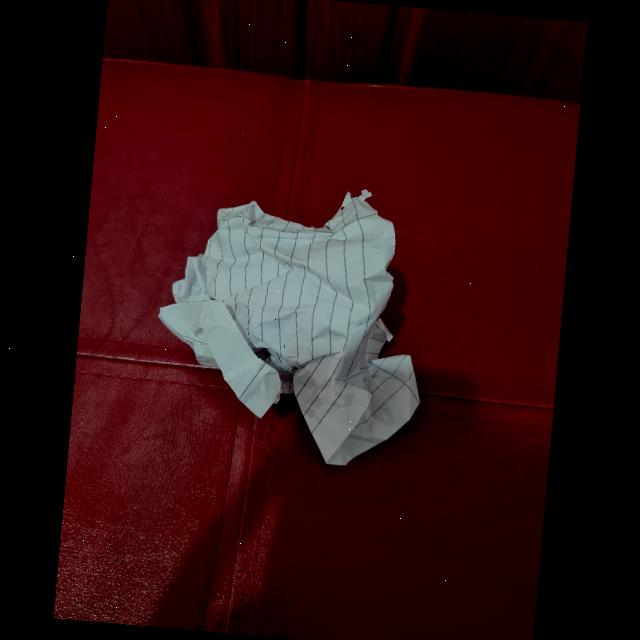trash: (162, 176, 430, 462)
